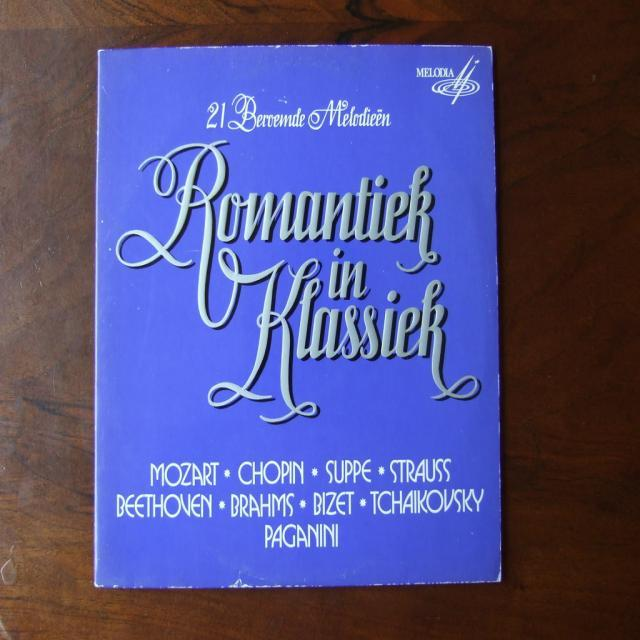book: (95, 46, 500, 585)
